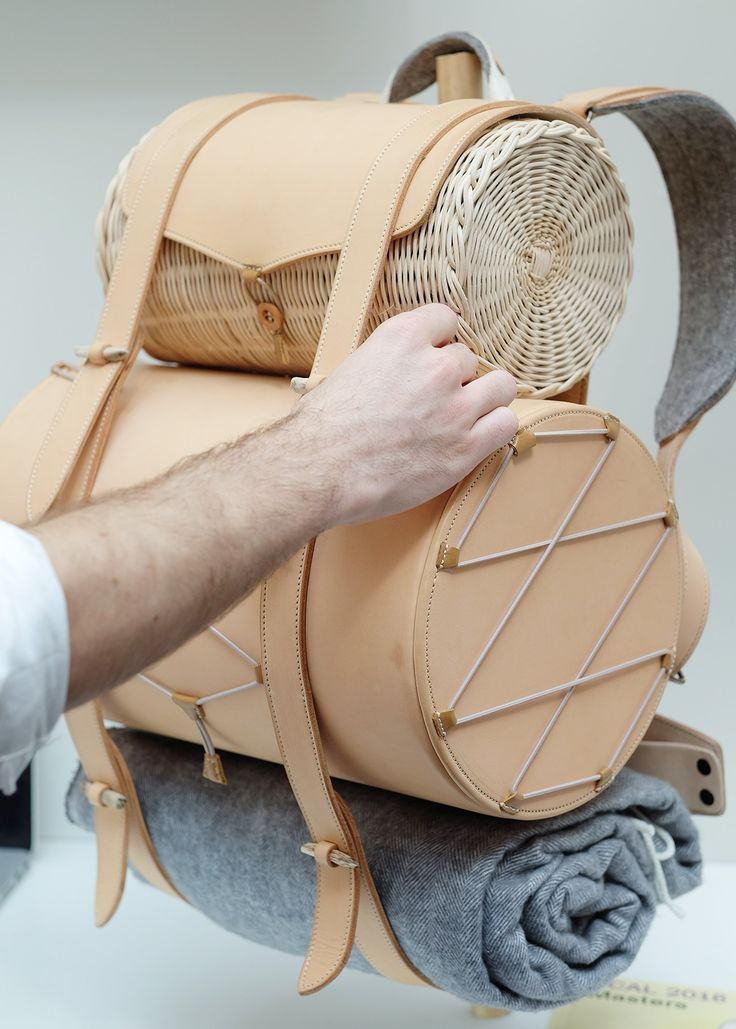cuero: (1, 87, 736, 996)
